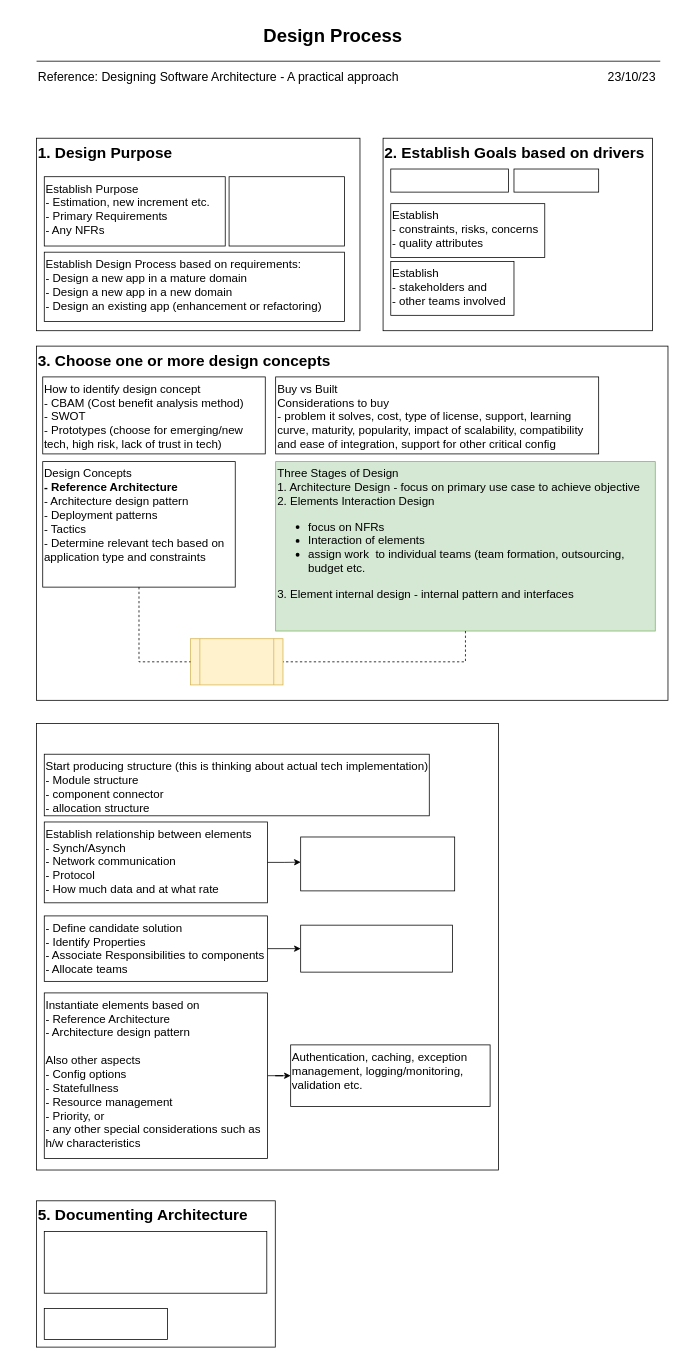
Some shapes in this 681 by 1361 pixel diagram are drawn without their labels. Each missing label, with the box of its shape:
4. Instantiate Architecture Components: (36, 723, 499, 1170)
APIs and Interfaces - Design external interfaces - Design internal interfaces: (300, 836, 455, 891)
Architecture Backlog: (44, 1308, 167, 1339)
Establish Use cases: (390, 168, 509, 192)
Establish users: (513, 168, 599, 192)
Evaluate solution with Stakeholders and other teams: (300, 924, 452, 972)
Perform any requirement elicitation: (228, 176, 345, 246)
Record Decisions and boards - Solution Overview - Other documentation: (44, 1231, 267, 1293)
These cross over to next stage: (190, 638, 283, 685)
